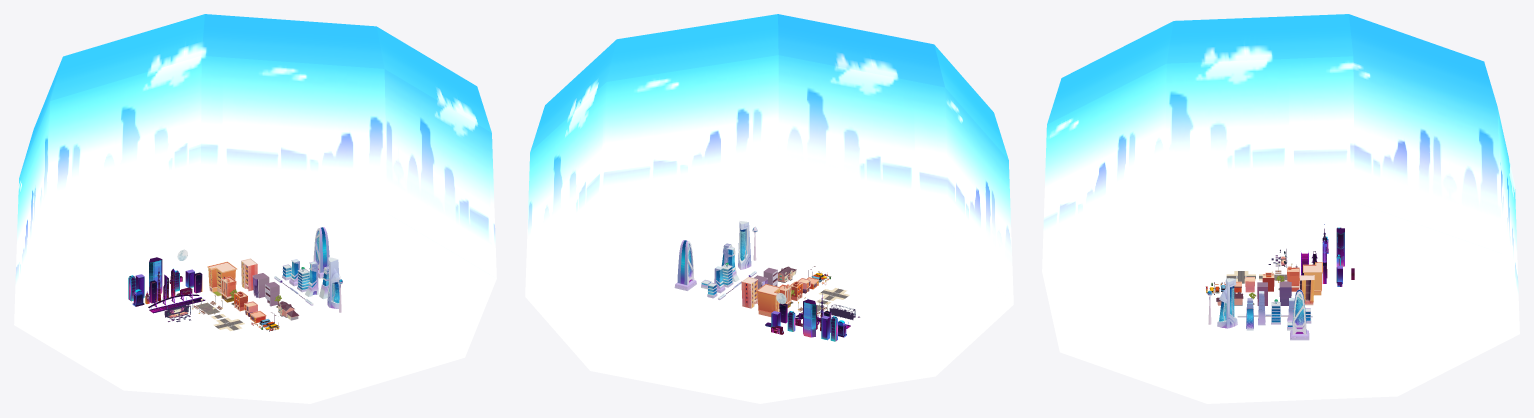
The model's file is lowpoly_city_street_pack_buildings_stylized.glb.
3 views of the same model, side by side, from view 1: azimuth 30°, elevation 25°; view 2: azimuth 150°, elevation 25°; view 3: azimuth 270°, elevation 25° (orthographic). The views are drawn at different scales.
Parts seen in each view (by area): view 1: Sphere, Cube.043, Cube, Cube.099, Cube.027; view 2: Sphere, Cube.043, Cube, Cube.099, Cube.034, Cube.027; view 3: Sphere, Cube.099, Cube.043.
Boxes of the visible parts, x1,y1,x2,y2 form: Sphere: (14, 14, 496, 403); Cube.043: (313, 227, 329, 278); Cube: (207, 261, 237, 296); Cube.099: (327, 257, 339, 308); Cube.027: (241, 258, 257, 291); Sphere: (525, 14, 1013, 403); Cube.043: (674, 240, 696, 290); Cube: (756, 284, 780, 316); Cube.099: (738, 221, 751, 269); Cube.034: (803, 299, 815, 337); Cube.027: (741, 277, 757, 308); Sphere: (1042, 14, 1519, 403); Cube.099: (1217, 278, 1237, 328); Cube.043: (1290, 289, 1309, 340).
Size of what is drawn, in the model's own units: 42500 by 20957 by 42500.
58 materials, 51 textured.
